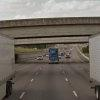Bridge: (0, 9, 99, 48)
